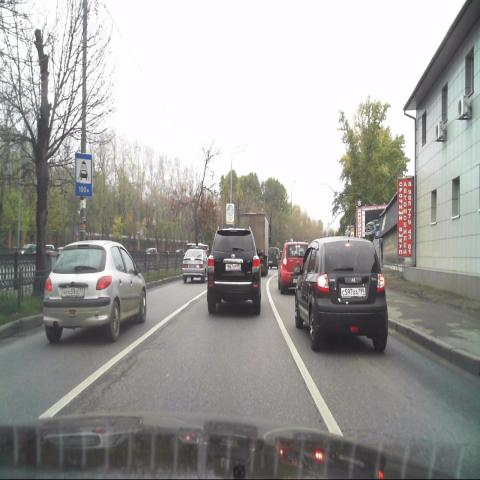7_5: (74, 152, 93, 198)
